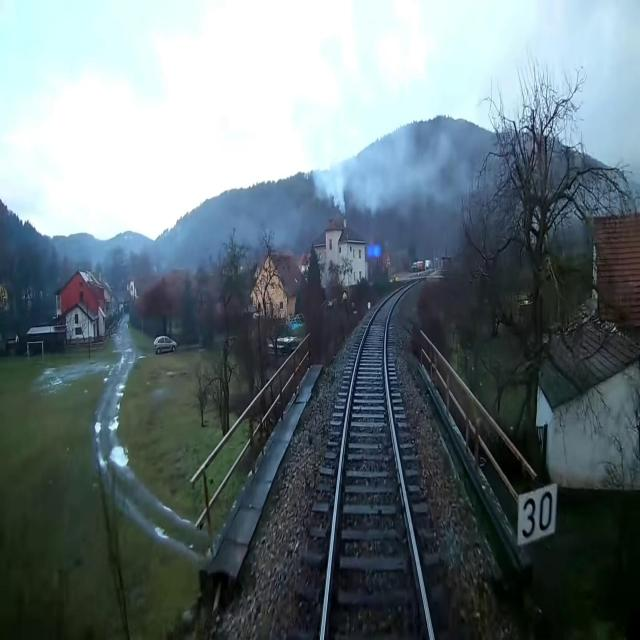rail-track: (325, 287, 429, 639)
